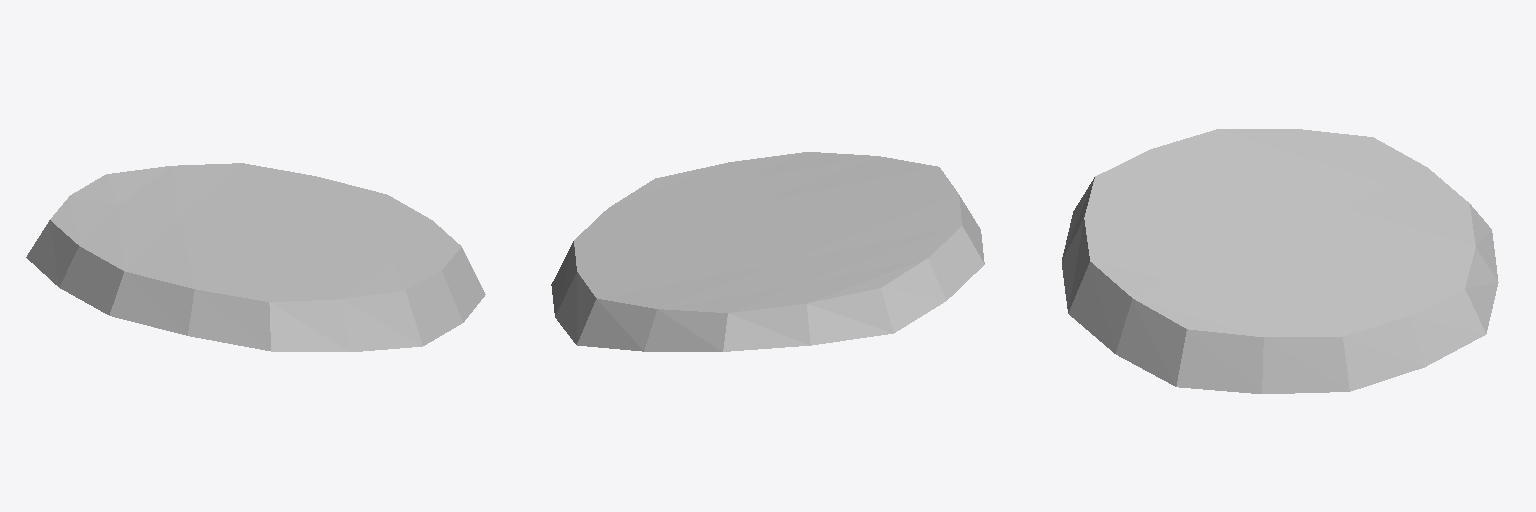
The model's file is slice_06.obj.
3 renders of one model, left to right at view 1: azimuth 30°, elevation 25°; view 2: azimuth 150°, elevation 25°; view 3: azimuth 270°, elevation 25°, orthographic.
Parts seen in each view (by area): view 1: Mushroom.007_Cube.016; view 2: Mushroom.007_Cube.016; view 3: Mushroom.007_Cube.016.
Boxes of the visible parts, x1=… form: Mushroom.007_Cube.016: x1=26, y1=163, x2=485, y2=351; Mushroom.007_Cube.016: x1=551, y1=152, x2=984, y2=351; Mushroom.007_Cube.016: x1=1062, y1=129, x2=1498, y2=393.
Bounding box in the file's own units: 1.94 × 0.4679 × 1.96.